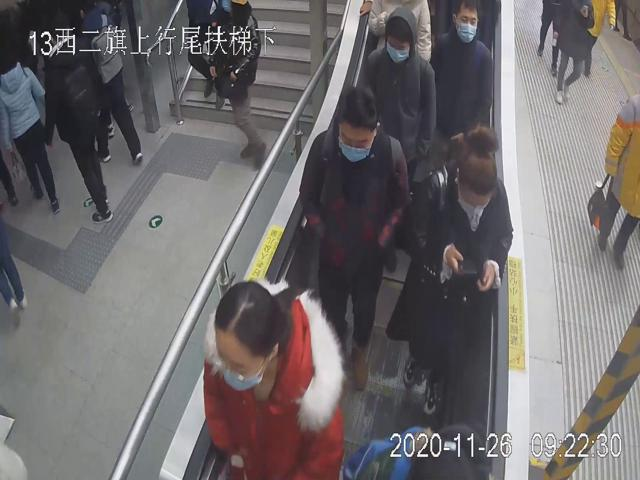person: (387, 125, 513, 418), (298, 82, 411, 391), (203, 275, 343, 480), (360, 4, 437, 176), (426, 0, 493, 139)
